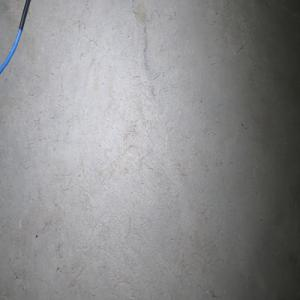Wire: (0, 0, 31, 74)
